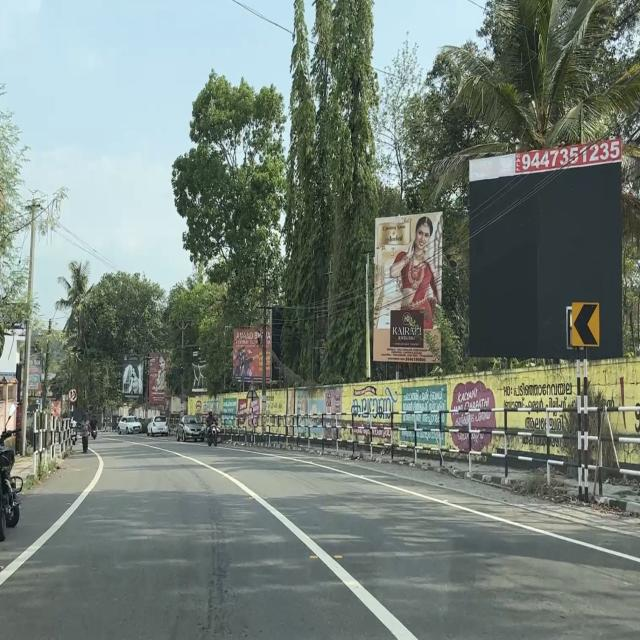OVERTAKING_PROHIBITED: (68, 388, 78, 402)
TURN_LEFT: (572, 300, 600, 348)
